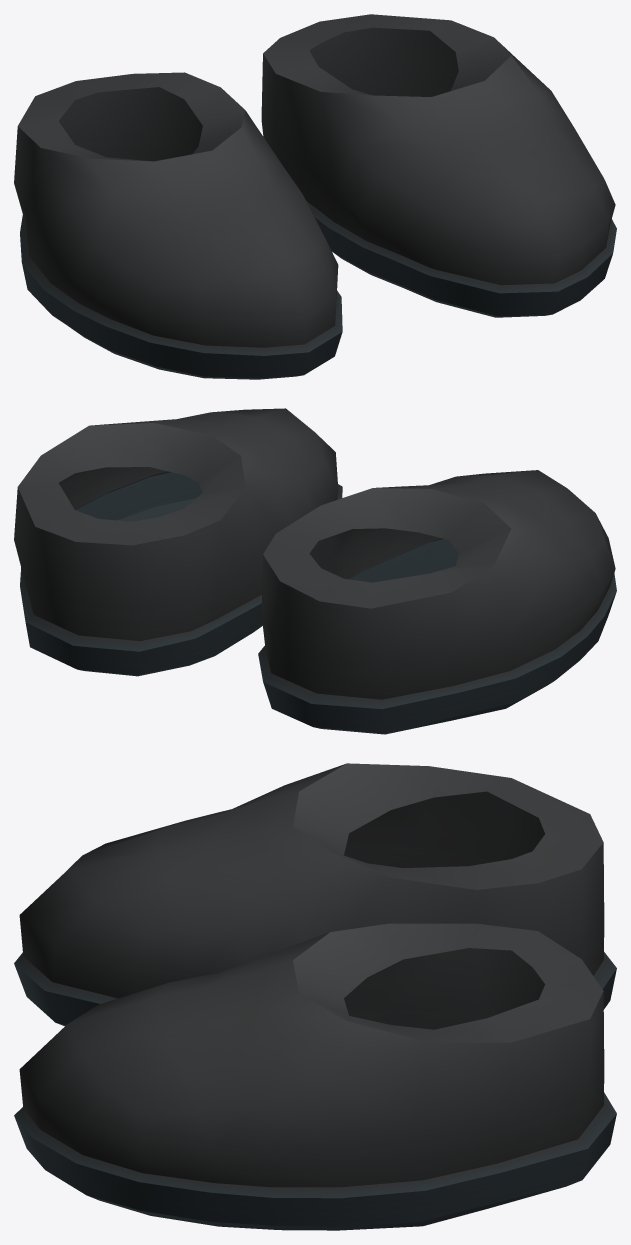
File: Shoe_Sneakers_05.glb
The picture shows the model from 3 angles, top to bottom: view 1: azimuth 30°, elevation 25°; view 2: azimuth 150°, elevation 25°; view 3: azimuth 270°, elevation 25°; orthographic projection. The views are drawn at different scales.
Parts seen in each view (by area): view 1: Shoe_Sneakers_05; view 2: Shoe_Sneakers_05; view 3: Shoe_Sneakers_05.
Boxes of the visible parts, x1,y1,x2,y2 form: Shoe_Sneakers_05: (14,14,616,379); Shoe_Sneakers_05: (14,408,616,734); Shoe_Sneakers_05: (14,763,616,1230).
Size of the model in its own units: 0.2709 by 0.0762 by 0.2187.
1 material, 1 textured.
